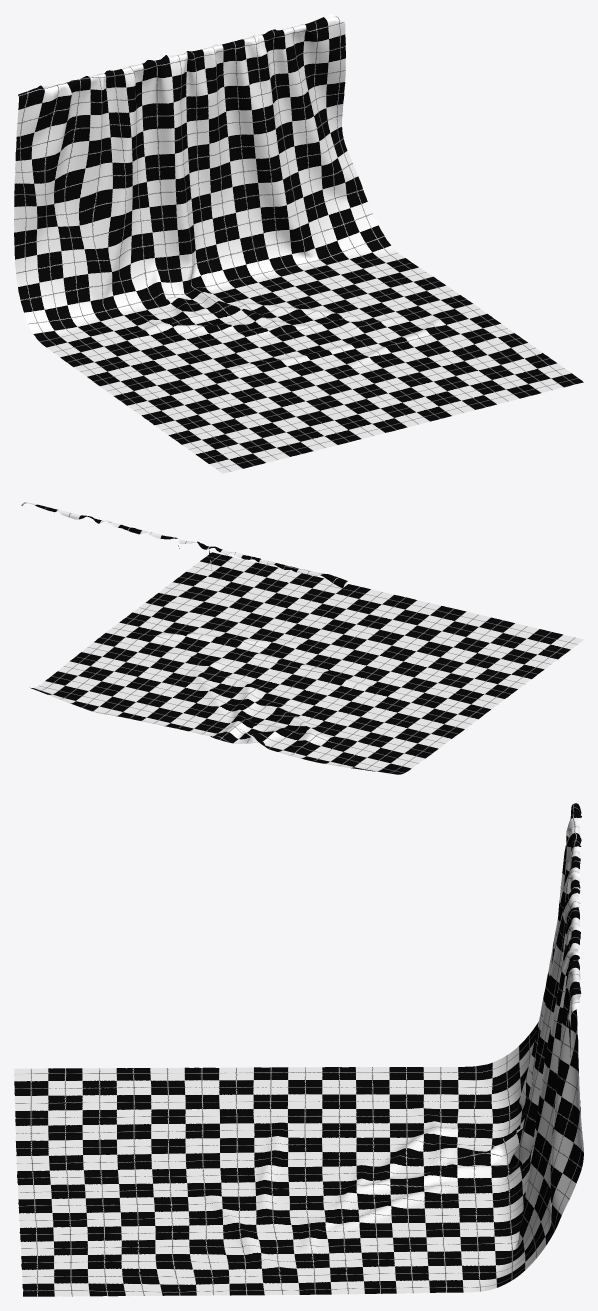
File: clothe-backdrop.glb
3 renders of one model, top to bottom at view 1: azimuth 30°, elevation 25°; view 2: azimuth 150°, elevation 25°; view 3: azimuth 270°, elevation 25°, orthographic. The views are drawn at different scales.
Visible parts, largest first — view 1: Cloth_Backdrop; view 2: Cloth_Backdrop; view 3: Cloth_Backdrop.
Part boxes in pixels (left/top/right/bottom): Cloth_Backdrop: left=14, top=14, right=583, bottom=473; Cloth_Backdrop: left=21, top=502, right=583, bottom=774; Cloth_Backdrop: left=14, top=803, right=583, bottom=1296.
Size of the model in its own units: 0.1803 by 0.1021 by 0.1889.
Materials: 1 (1 with a texture image).
